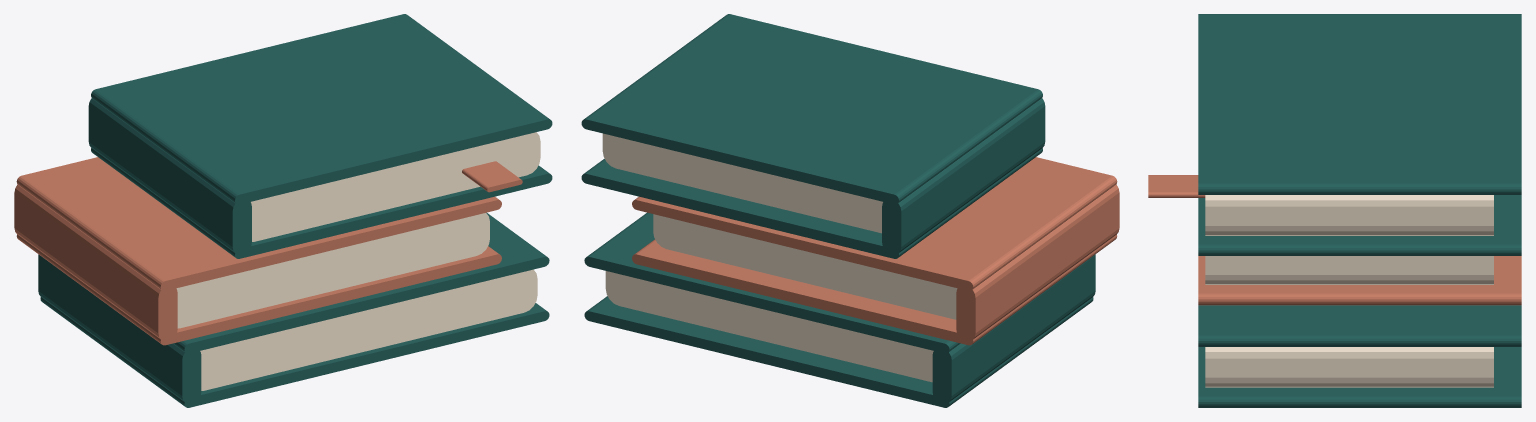
File: books.glb
3 views of the same model, side by side, from view 1: azimuth 30°, elevation 25°; view 2: azimuth 150°, elevation 25°; view 3: azimuth 270°, elevation 25° (orthographic). The views are drawn at different scales.
Parts seen in each view (by area): view 1: cover 2 0.175, cover 1 0.175, pages 0, pages 1, pages 2, spine 2, spine 1, spine 0, cover 0 0.175, cover 0 0, cover 1 0, cover 2 0 (+1 smaller); view 2: cover 2 0.175, cover 1 0.175, pages 0, pages 1, pages 2, cover 0 0, spine 1, cover 1 0, spine 2, cover 2 0, spine 0, cover 0 0.175; view 3: cover 2 0.175, cover 0 0.175, pages 0, pages 2, pages 1, cover 0 0, cover 2 0, cover 1 0, ribbon.
Part boxes in pixels (<box>): cover 2 0.175: <box>91,14,552,204</box>; cover 1 0.175: <box>16,157,501,290</box>; pages 0: <box>200,269,537,390</box>; pages 1: <box>176,213,489,328</box>; pages 2: <box>251,132,540,241</box>; spine 2: <box>88,98,251,254</box>; spine 1: <box>14,184,177,341</box>; spine 0: <box>38,254,201,403</box>; cover 0 0.175: <box>173,212,549,353</box>; cover 0 0: <box>40,297,549,407</box>; cover 1 0: <box>16,234,501,345</box>; cover 2 0: <box>91,148,552,258</box>; cover 2 0.175: <box>581,14,1042,204</box>; cover 1 0.175: <box>632,157,1117,290</box>; pages 0: <box>605,271,933,382</box>; pages 1: <box>653,214,957,319</box>; pages 2: <box>602,133,882,233</box>; cover 0 0: <box>584,296,1093,407</box>; spine 1: <box>956,184,1119,341</box>; cover 1 0: <box>632,234,1117,345</box>; spine 2: <box>882,98,1045,254</box>; cover 2 0: <box>581,148,1042,258</box>; spine 0: <box>932,254,1095,403</box>; cover 0 0.175: <box>584,212,960,353</box>; cover 2 0.175: <box>1198,14,1521,194</box>; cover 0 0.175: <box>1198,305,1521,346</box>; pages 0: <box>1205,347,1493,387</box>; pages 2: <box>1205,195,1493,235</box>; pages 1: <box>1205,256,1493,284</box>; cover 0 0: <box>1198,347,1521,407</box>; cover 2 0: <box>1198,195,1521,255</box>; cover 1 0: <box>1198,256,1521,305</box>; ribbon: <box>1148,175,1205,197</box>.
Size of the model in its own units: 1.33 by 0.647 by 0.97.
